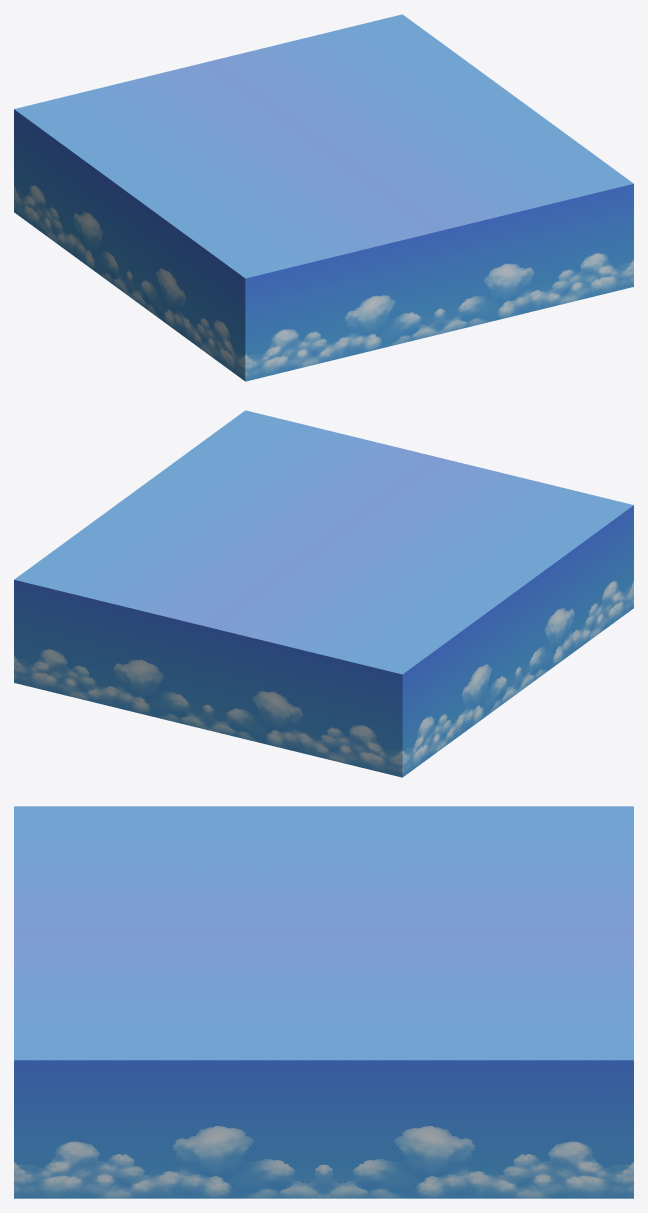
Rendered from qiang_1.FBX.
3 renders of one model, top to bottom at view 1: azimuth 30°, elevation 25°; view 2: azimuth 150°, elevation 25°; view 3: azimuth 270°, elevation 25°, orthographic. The views are drawn at different scales.
Visible parts, largest first — view 1: objObject352; view 2: objObject352; view 3: objObject352.
Boxes of the visible parts, x1,y1,x2,y2 form: objObject352: (14, 14, 633, 381); objObject352: (14, 410, 633, 777); objObject352: (14, 806, 633, 1198).
Size of the model in its own units: 2933 by 744 by 3026.
